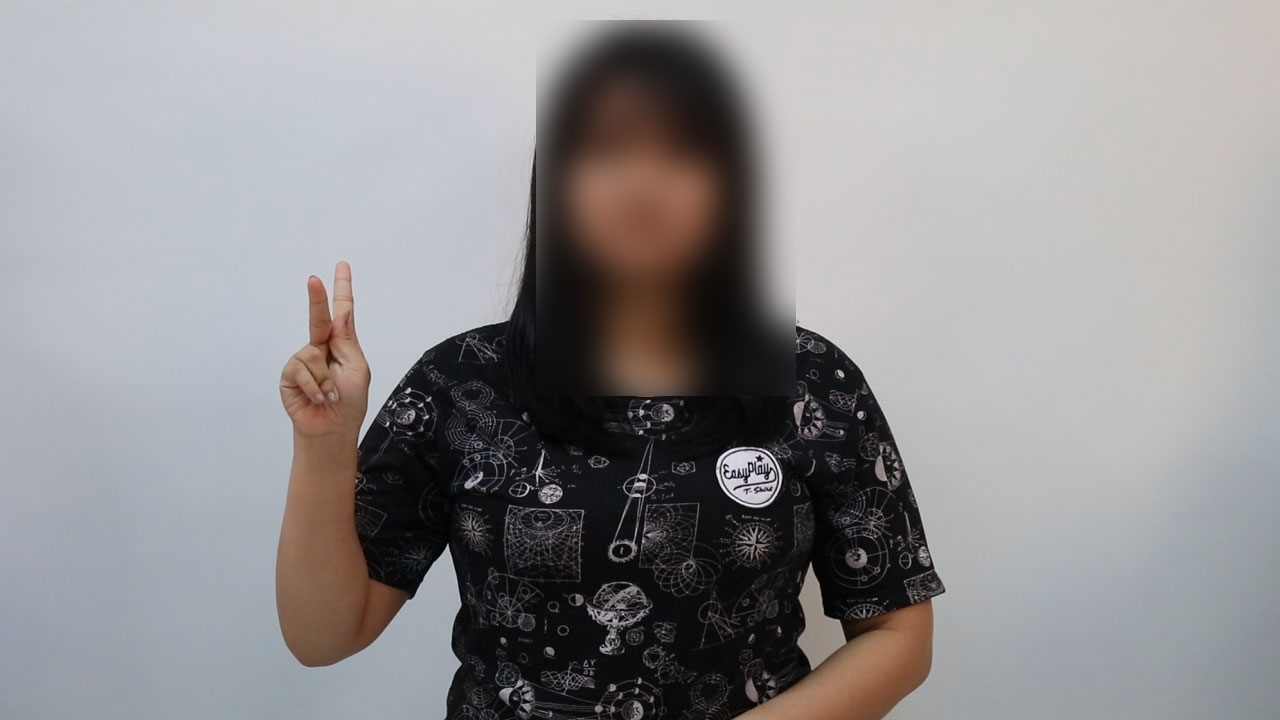ko: (236, 247, 422, 446)
